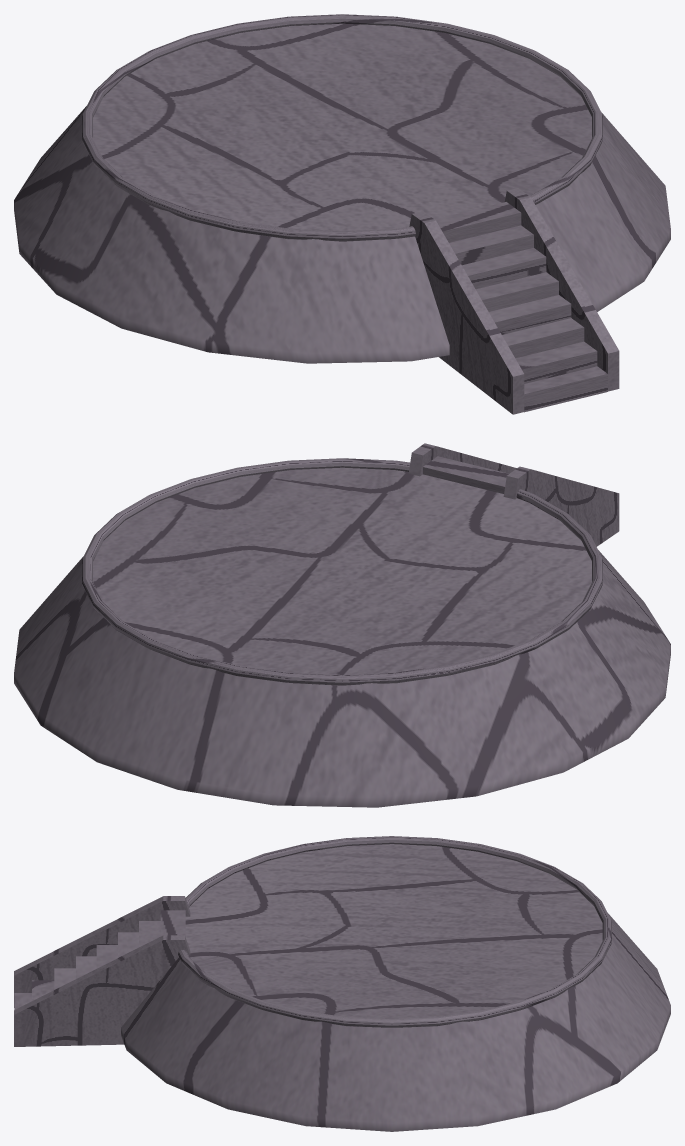
File: Ceremonial_StonePlatform.obj
3 renders of one model, top to bottom at view 1: azimuth 30°, elevation 25°; view 2: azimuth 150°, elevation 25°; view 3: azimuth 270°, elevation 25°, orthographic. The views are drawn at different scales.
Parts seen in each view (by area): view 1: MainPlatform, Stair, MainPlatform PlatformRing, Stair StairGuard, Stair StairGuard1; view 2: MainPlatform, MainPlatform PlatformRing, Stair StairGuard, Stair, Stair StairGuard1; view 3: MainPlatform, Stair StairGuard1, MainPlatform PlatformRing, Stair StairGuard, Stair.
Part boxes in pixels (x1,y1,x2,y2): MainPlatform: [14, 23, 670, 363]; Stair: [435, 202, 607, 412]; MainPlatform PlatformRing: [82, 14, 602, 241]; Stair StairGuard: [409, 211, 524, 414]; Stair StairGuard1: [504, 188, 619, 391]; MainPlatform: [14, 467, 670, 807]; MainPlatform PlatformRing: [82, 458, 602, 685]; Stair StairGuard: [503, 466, 619, 546]; Stair: [423, 456, 509, 493]; Stair StairGuard1: [408, 443, 516, 476]; MainPlatform: [121, 844, 670, 1131]; Stair StairGuard1: [14, 935, 190, 1046]; MainPlatform PlatformRing: [178, 836, 611, 1027]; Stair StairGuard: [14, 896, 190, 1007]; Stair: [14, 910, 185, 1009].
Bounding box in the file's own units: 11.85 × 2.52 × 13.95.
Materials: 1 (1 with a texture image).
